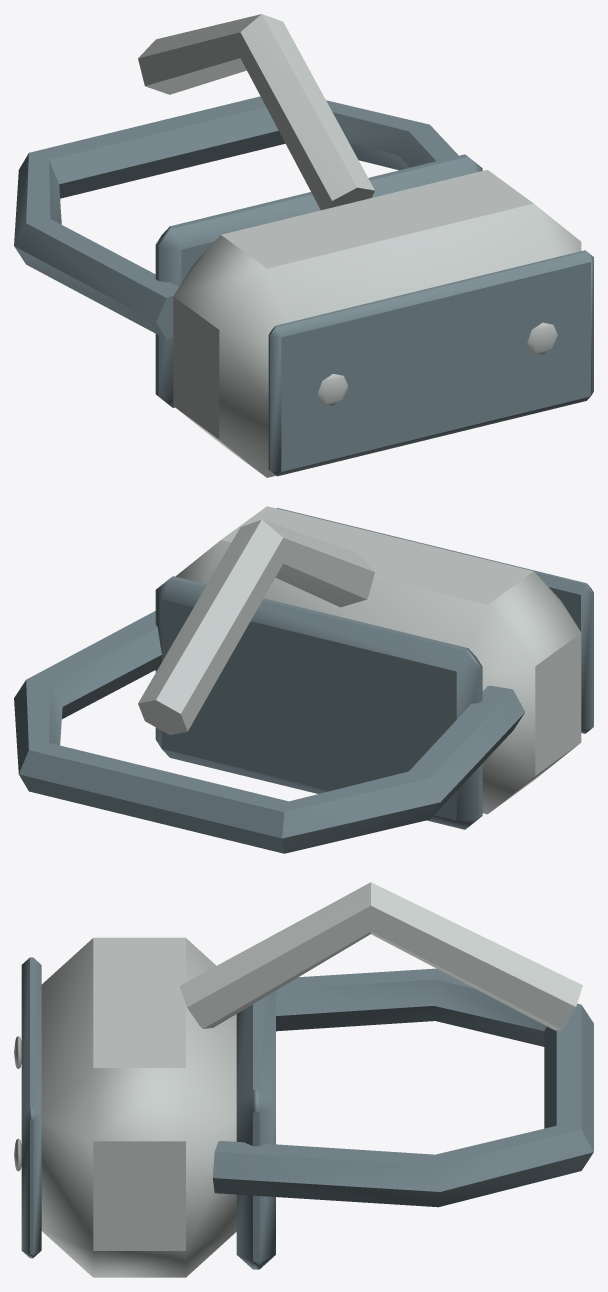
File: vr-headset.glb
The picture shows the model from 3 angles, top to bottom: view 1: azimuth 30°, elevation 25°; view 2: azimuth 150°, elevation 25°; view 3: azimuth 270°, elevation 25°; orthographic projection.
Parts seen in each view (by area): view 1: front_panel, visor, head_strap, top_strap, face_padding, tracking_sensor.001, tracking_sensor; view 2: face_padding, head_strap, visor, top_strap, front_panel; view 3: visor, head_strap, top_strap, face_padding, front_panel.
Boxes of the visible parts, left/top/right/bottom form: front_panel: left=268, top=250, right=593, bottom=476; visor: left=173, top=170, right=581, bottom=477; head_strap: left=14, top=96, right=458, bottom=339; top_strap: left=138, top=14, right=374, bottom=210; face_padding: left=155, top=154, right=482, bottom=407; tracking_sensor.001: left=527, top=322, right=557, bottom=354; tracking_sensor: left=318, top=374, right=347, bottom=405; face_padding: left=155, top=576, right=482, bottom=829; head_strap: left=14, top=611, right=524, bottom=853; visor: left=175, top=506, right=581, bottom=814; top_strap: left=138, top=519, right=374, bottom=734; front_panel: left=276, top=508, right=593, bottom=733; visor: left=41, top=937, right=236, bottom=1277; head_strap: left=212, top=968, right=593, bottom=1207; top_strap: left=179, top=882, right=582, bottom=1030; face_padding: left=236, top=991, right=275, bottom=1269; front_panel: left=21, top=957, right=41, bottom=1258.
Size of the model in its own units: 0.2238 by 0.1655 by 0.2633.
